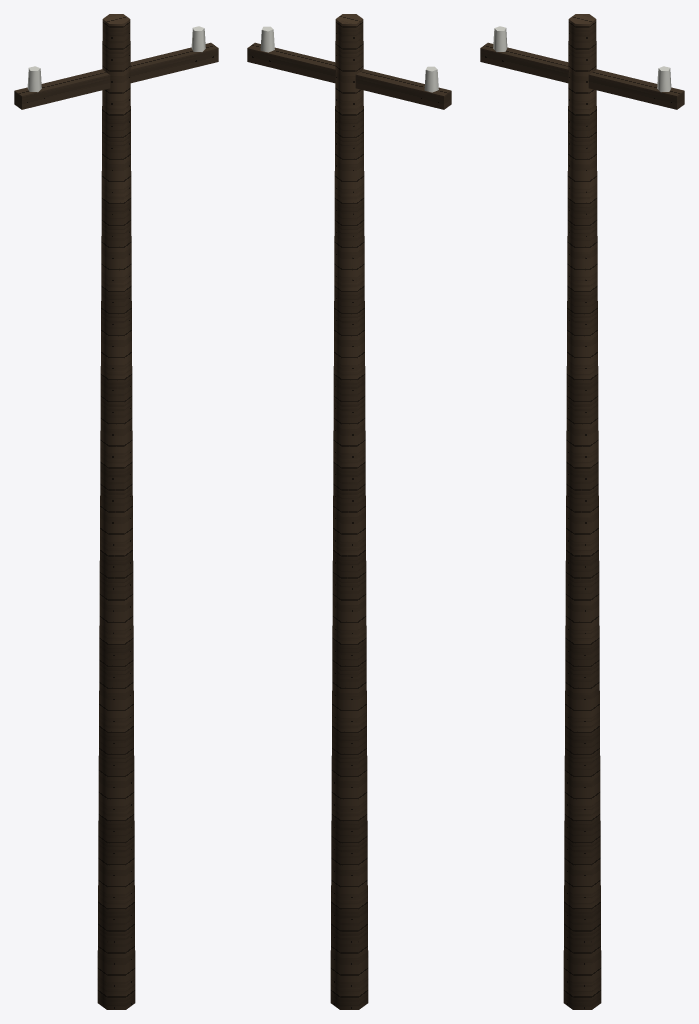
The model's file is poste_de_madeira.glb.
3 views of the same model, side by side, from view 1: azimuth 30°, elevation 25°; view 2: azimuth 150°, elevation 25°; view 3: azimuth 330°, elevation 25° (orthographic).
Parts seen in each view (by area): view 1: poste_de_madeira_madeira, poste_de_madeira; view 2: poste_de_madeira_madeira, poste_de_madeira; view 3: poste_de_madeira_madeira, poste_de_madeira.
Part boxes in pixels (<box>): poste_de_madeira_madeira: <box>14,14,218,1009</box>; poste_de_madeira: <box>27,26,205,92</box>; poste_de_madeira_madeira: <box>247,14,451,1009</box>; poste_de_madeira: <box>260,26,438,92</box>; poste_de_madeira_madeira: <box>480,14,684,1009</box>; poste_de_madeira: <box>493,26,671,92</box>.
Size of the model in its own units: 1.8 by 8.6 by 0.3.
2 materials, 1 textured.
